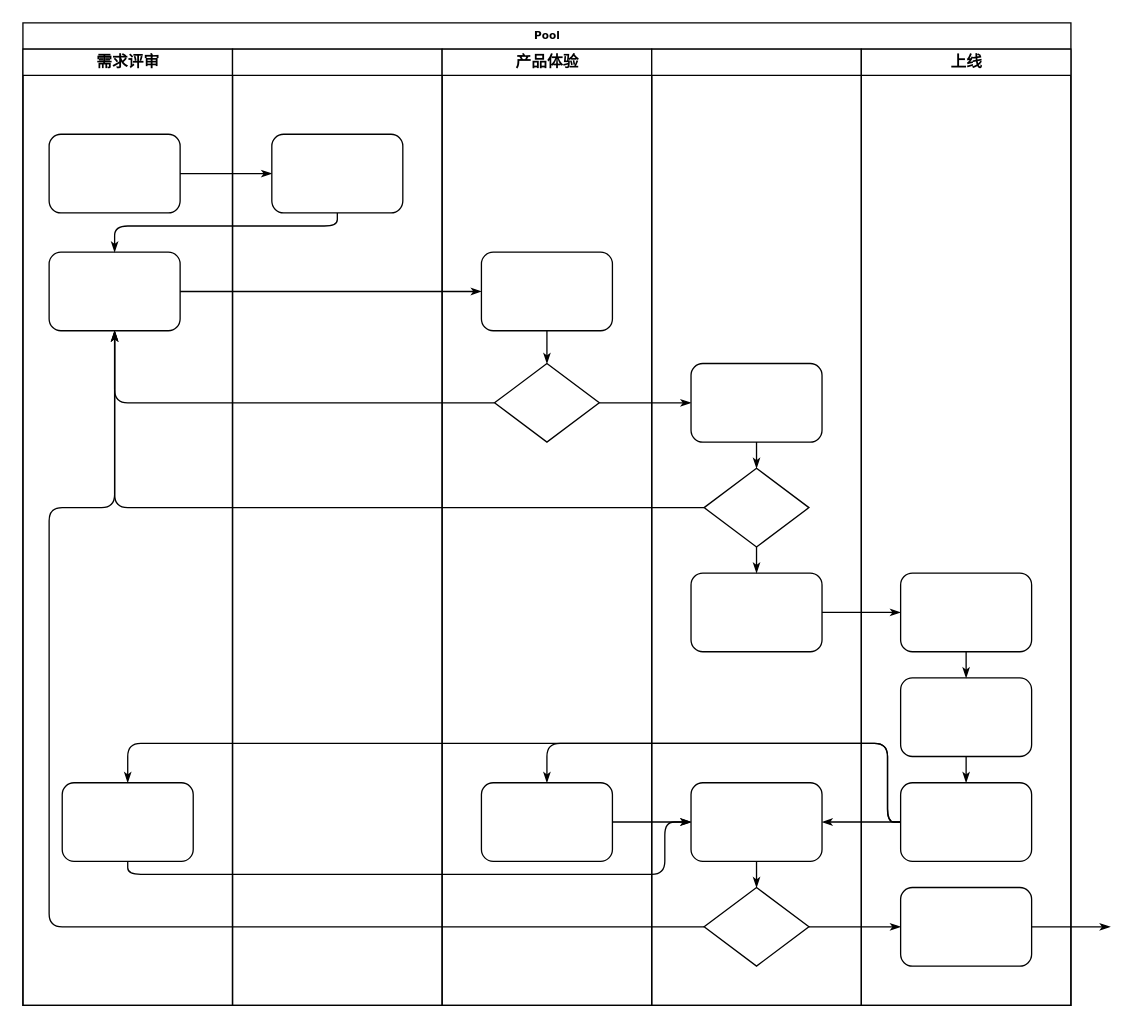
This 1142x1028 diagram has some shape labels left out. Each missing label, with the box of its shape:
技术方案评审: (231, 48, 442, 1005)
测试: (650, 48, 861, 1005)
